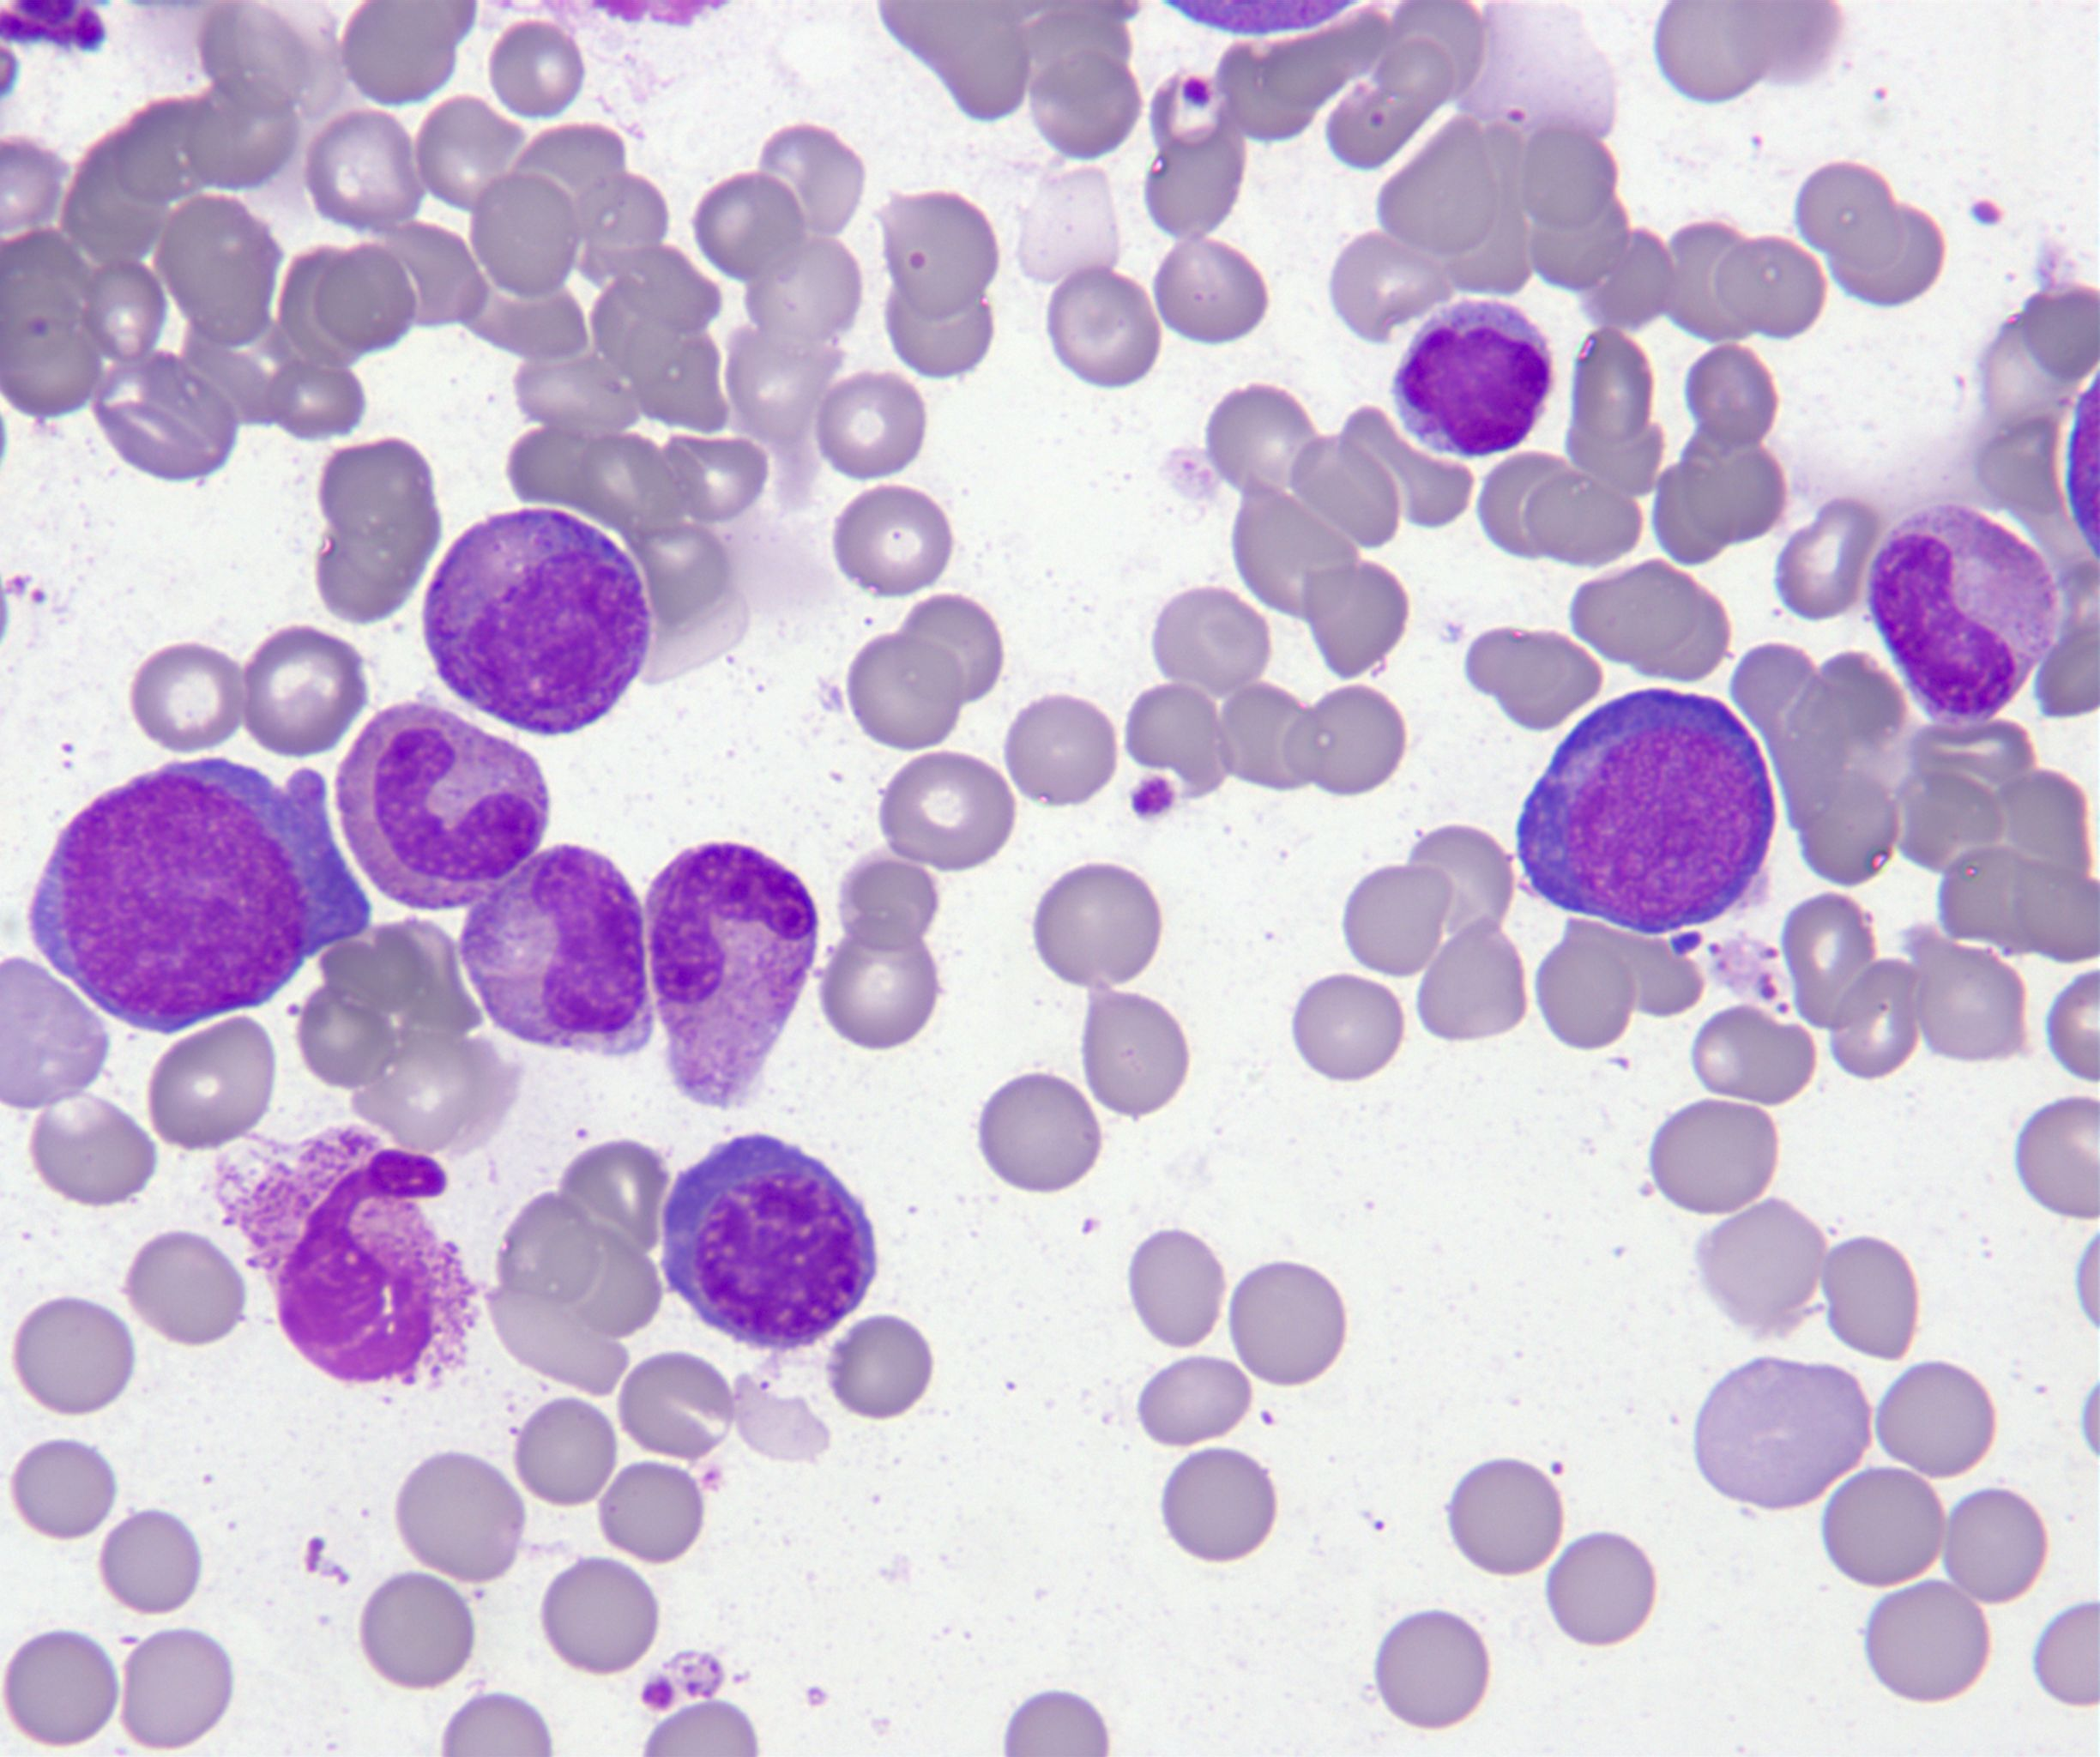21: (28, 761, 365, 1031)
22: (1519, 691, 1774, 939)
23: (661, 1136, 877, 1347)
3: (422, 509, 652, 736)
32: (1392, 302, 1549, 459)
4: (1865, 502, 2062, 724), (462, 848, 656, 1052)
5: (645, 843, 816, 1104), (338, 707, 549, 909)
x: (216, 1127, 474, 1385)
